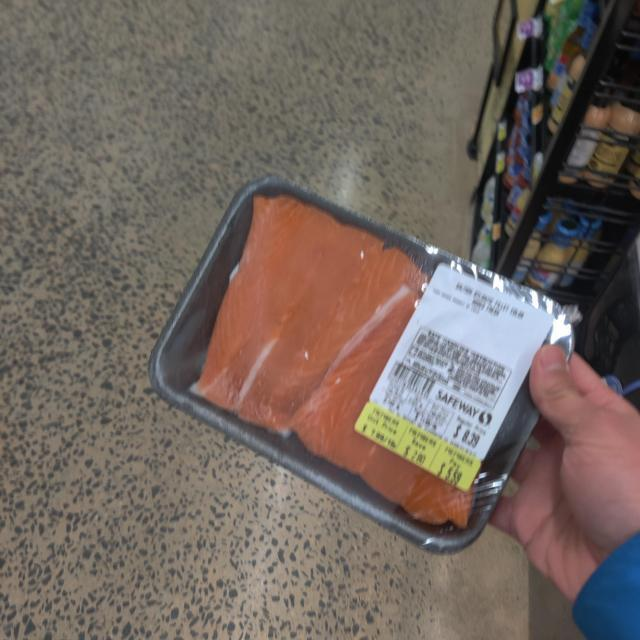Meat: (145, 174, 572, 548)
